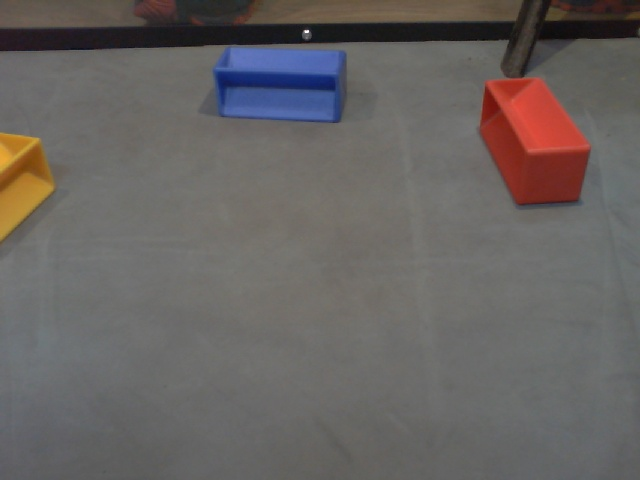BlueSample: (209, 43, 350, 125)
RedSample: (472, 72, 593, 211)
YellowSample: (1, 132, 59, 250)
